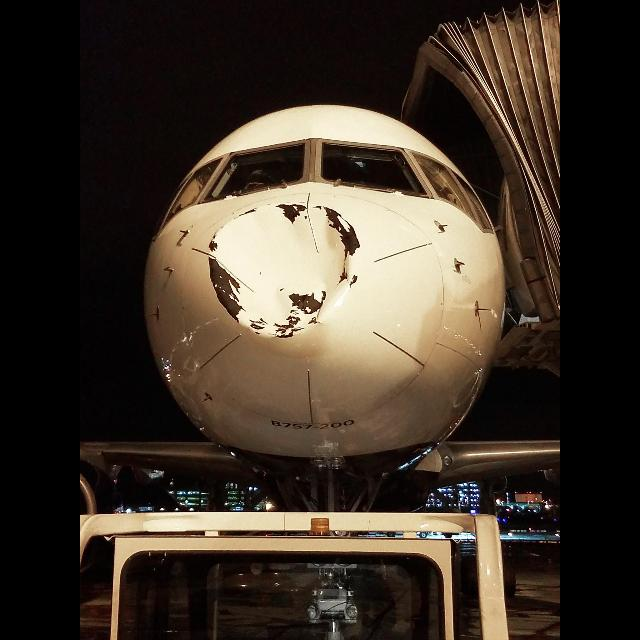dent: (208, 205, 358, 338)
